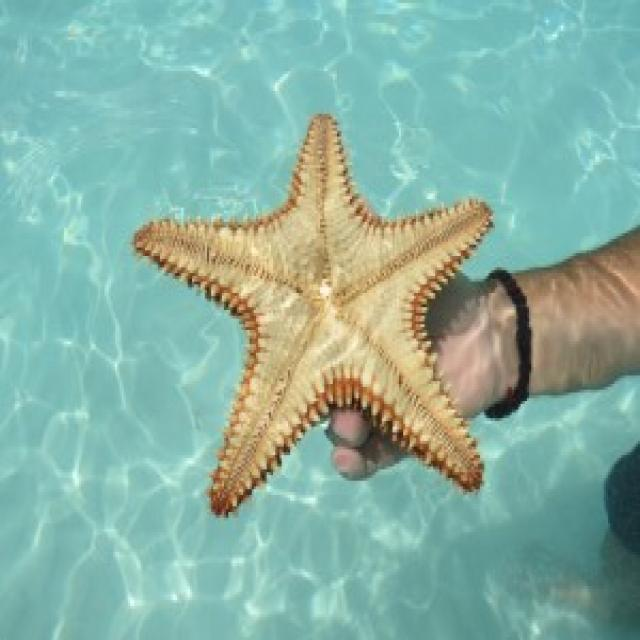Starfish: (112, 92, 515, 534)
